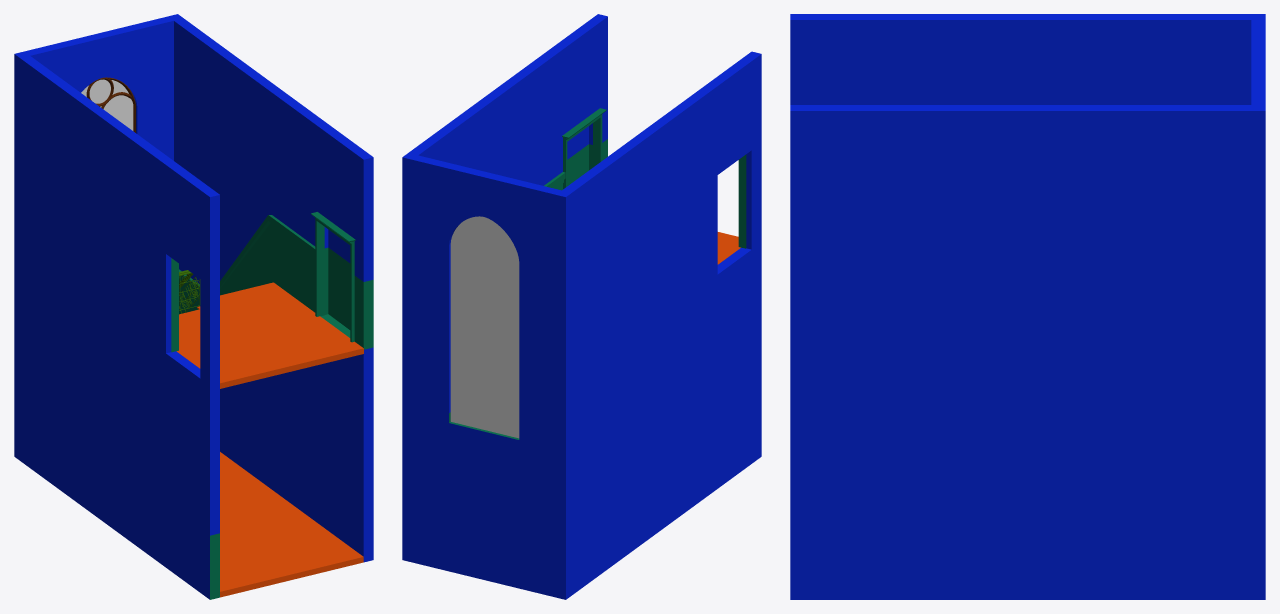
File: StairsMesh2.fbx
3 views of the same model, side by side, from view 1: azimuth 30°, elevation 25°; view 2: azimuth 150°, elevation 25°; view 3: azimuth 270°, elevation 25° (orthographic). The views are drawn at different scales.
Parts seen in each view (by area): view 1: Walls, Walls.001, Cube, Cube.004, Cube.005, Cube.001, Fense, BézierCurve; view 2: Walls, Cube.005, Walls.001, Cube.004; view 3: Walls.
Boxes of the visible parts, x1,y1,x2,y2 form: Walls: (14, 14, 373, 599); Walls.001: (171, 212, 373, 599); Cube: (220, 452, 363, 597); Cube.004: (176, 289, 363, 388); Cube.005: (81, 79, 133, 130); Cube.001: (197, 282, 281, 309); Fense: (179, 274, 200, 313); BézierCurve: (86, 77, 135, 132); Walls: (402, 14, 761, 599); Cube.005: (450, 216, 519, 438); Walls.001: (449, 108, 746, 439); Cube.004: (717, 232, 740, 264); Walls: (790, 14, 1265, 599).
Size of the model in its own units: 905 by 2130 by 1877.
